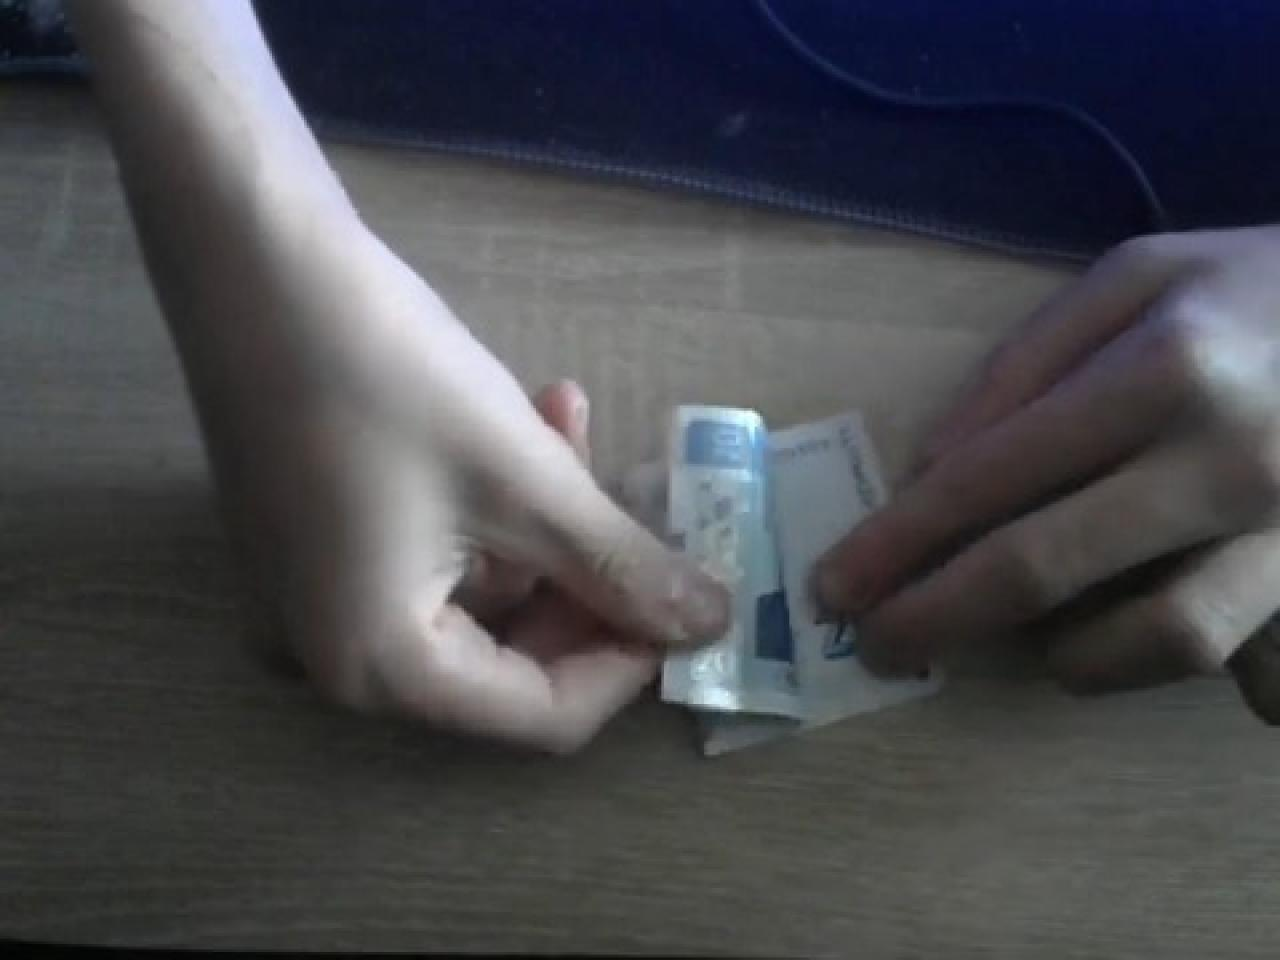20leva: (653, 397, 946, 744)
